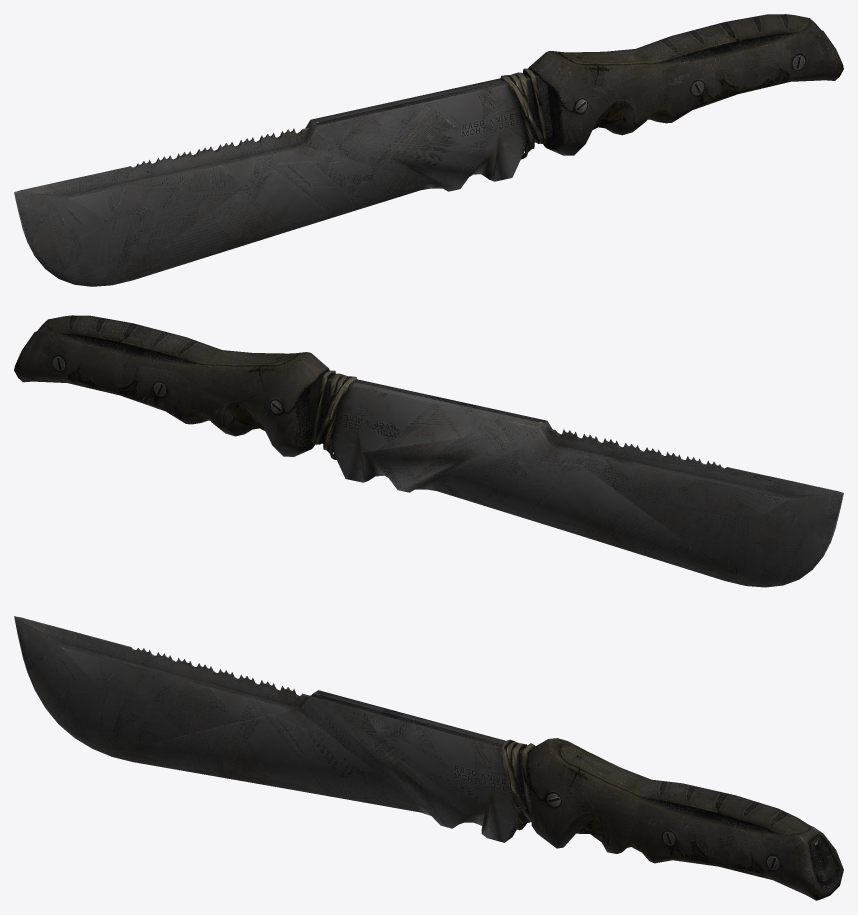
The model's file is machete.fbx.
3 views of the same model, one above another, from view 1: azimuth 30°, elevation 25°; view 2: azimuth 150°, elevation 25°; view 3: azimuth 330°, elevation 25° (orthographic).
Parts seen in each view (by area): view 1: DrawCall_1_1, DrawCall_2_1, DrawCall_0_1; view 2: DrawCall_1_1, DrawCall_2_1, DrawCall_0_1; view 3: DrawCall_1_1, DrawCall_2_1, DrawCall_0_1.
Part boxes in pixels (x1,y1,x2,y2): DrawCall_1_1: (14,73,552,286); DrawCall_2_1: (528,14,843,155); DrawCall_0_1: (500,68,547,159); DrawCall_1_1: (305,374,843,587); DrawCall_2_1: (14,315,329,456); DrawCall_0_1: (310,370,357,459); DrawCall_1_1: (14,616,530,842); DrawCall_2_1: (528,738,843,900); DrawCall_0_1: (500,739,535,830).
Size of the model in its own units: 12.32 by 1.8 by 0.8663.
